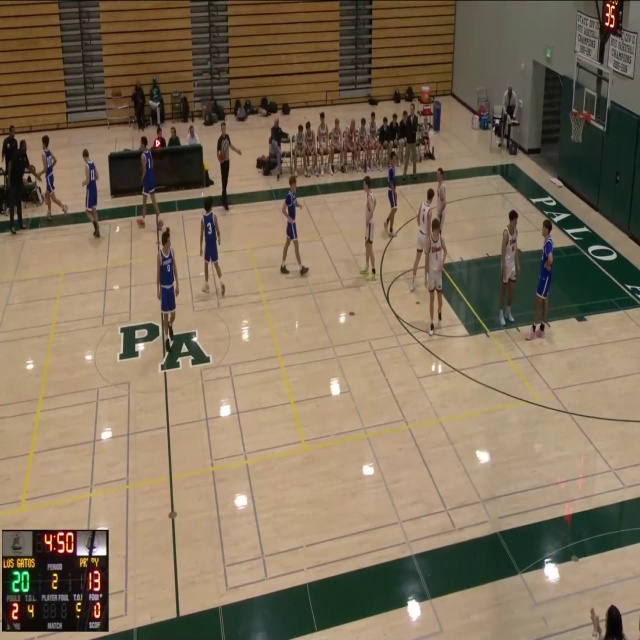Basketball: (217, 151, 226, 162)
